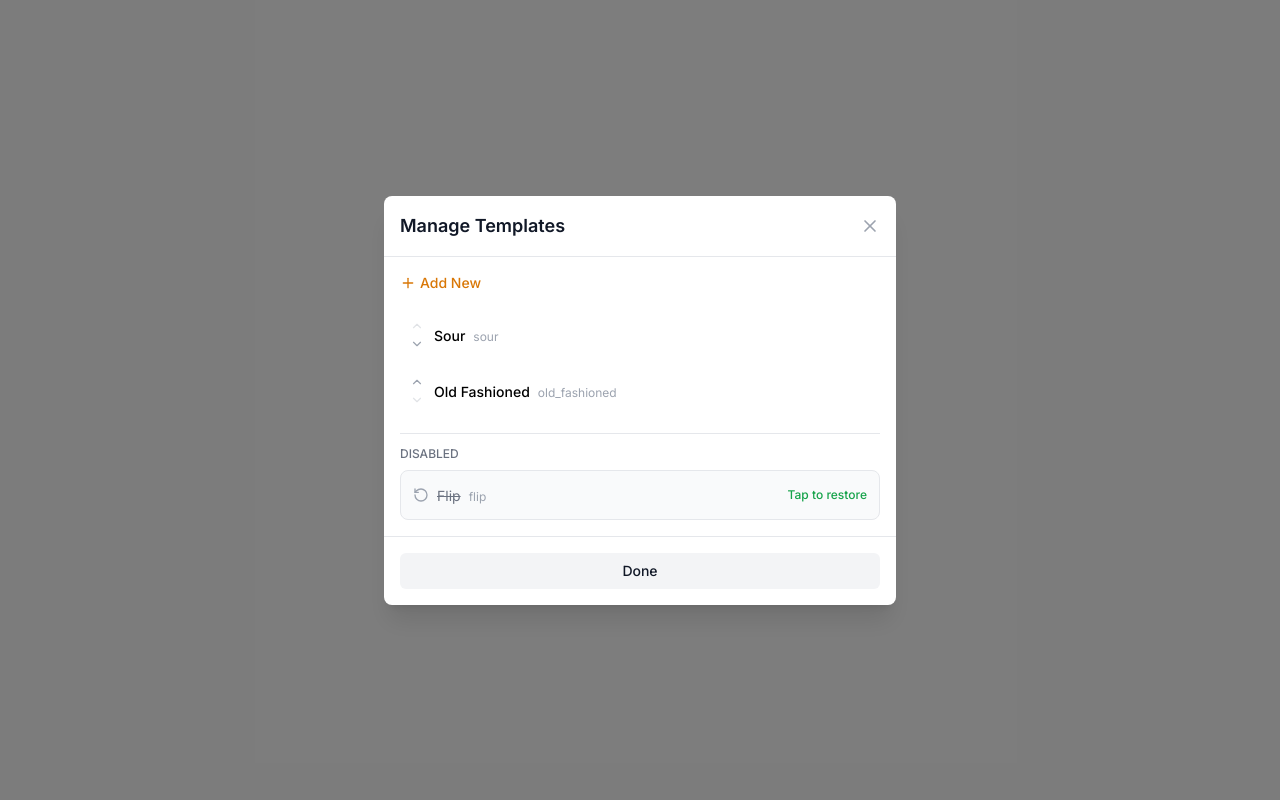
CategoryManagementModal › auto-generates snake_case value from label
The width and height of the screenshot is (1280, 800).
Click the button "Add New".
click(441, 282)  # box [400,272,481,292]
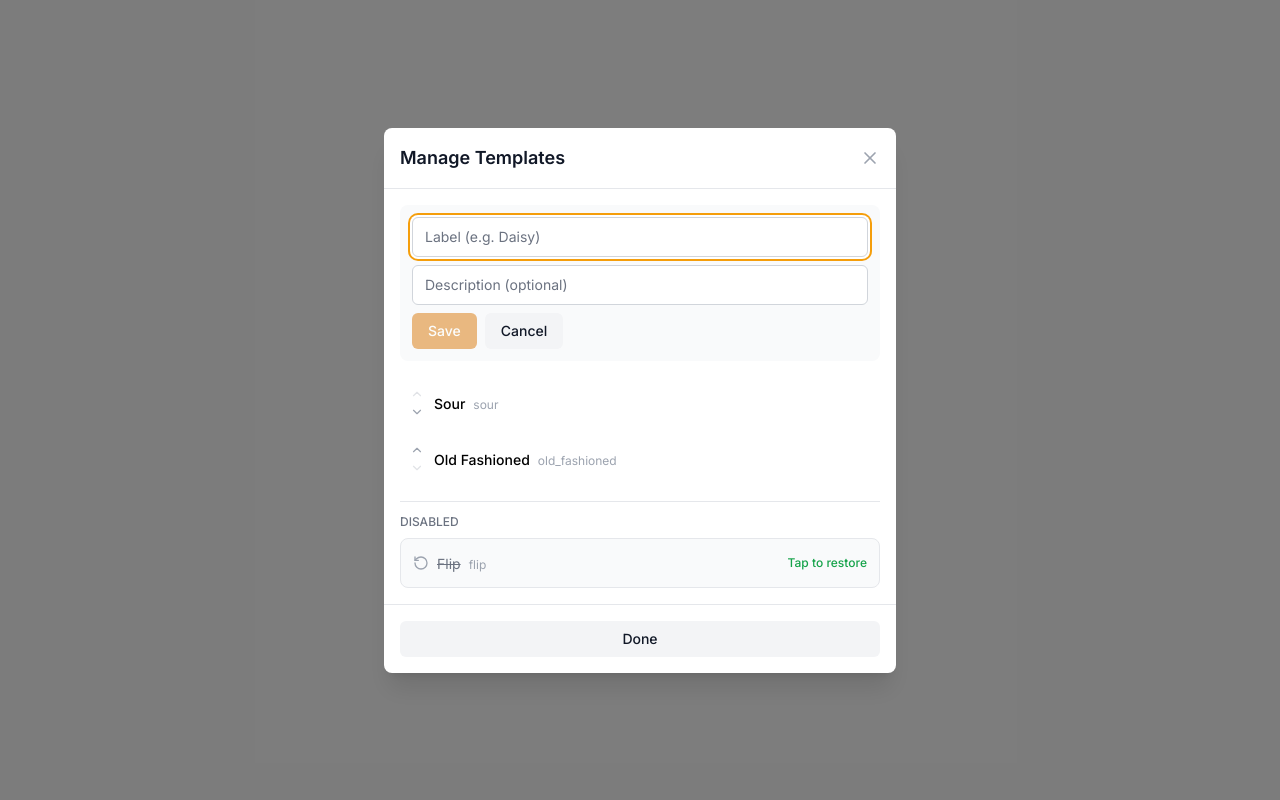
Type "Rum Punch" into the field with placeholder "Label (e.g. Daisy)".
click(640, 236); type("Rum Punch")  # box [412,216,868,256]
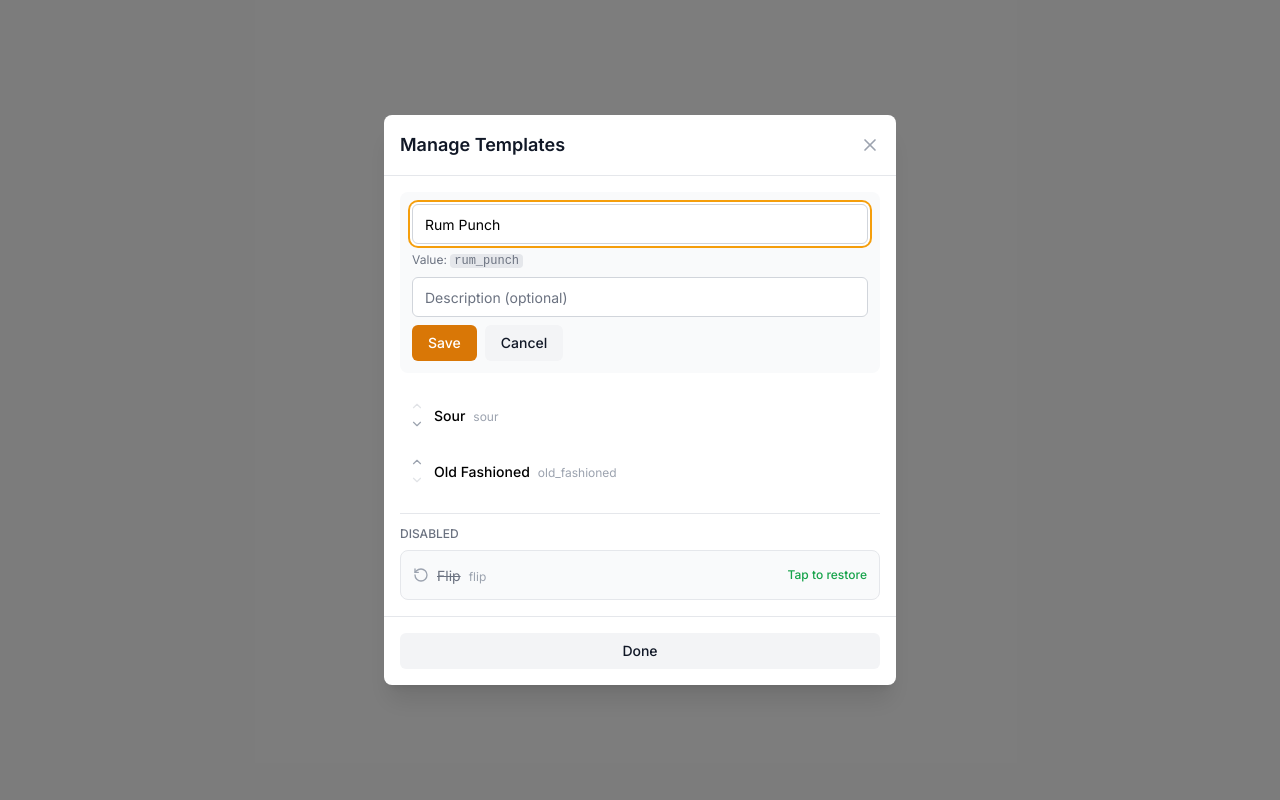
Now the text "rum_punch" is shown, box [450,254,523,268]
